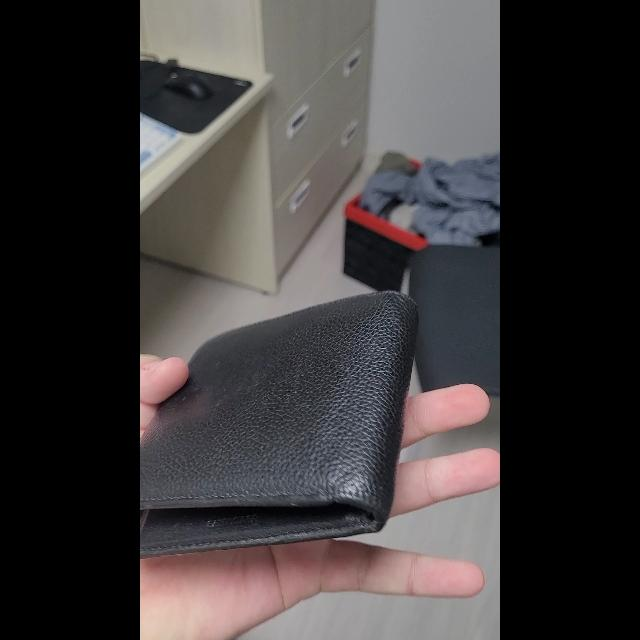WALLET: (140, 290, 418, 560)
